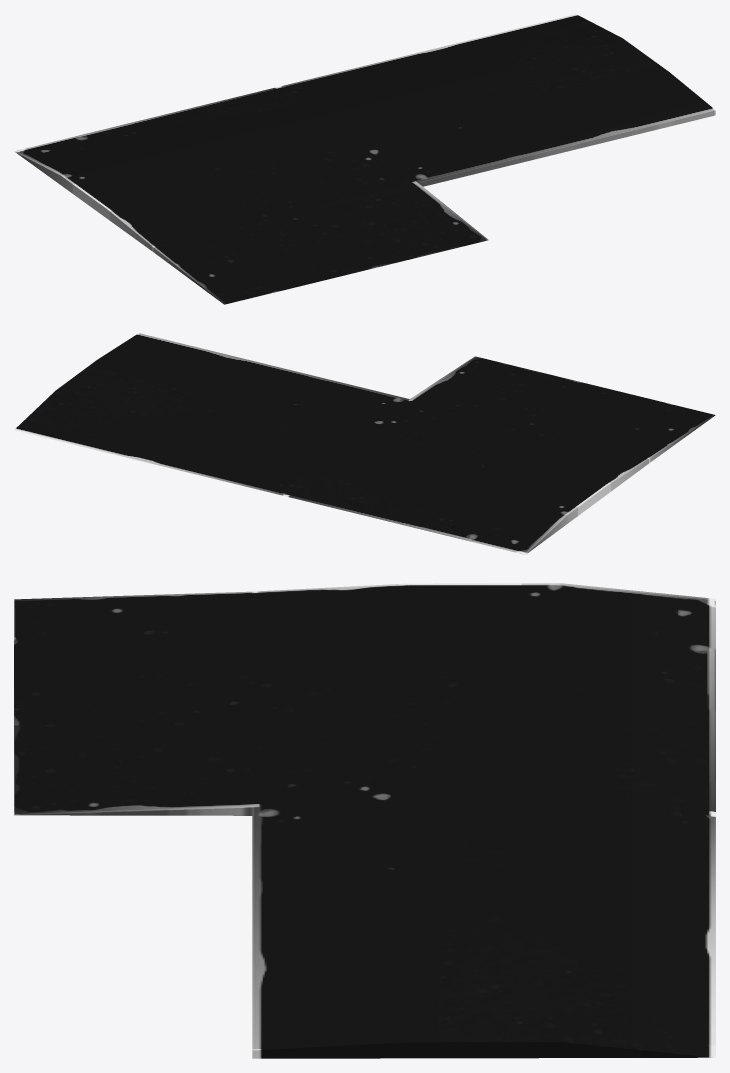
File: SM_HumanGroundTransition03.FBX
3 views of the same model, one above another, from view 1: azimuth 30°, elevation 25°; view 2: azimuth 150°, elevation 25°; view 3: azimuth 270°, elevation 25° (orthographic). The views are drawn at different scales.
Parts seen in each view (by area): view 1: Object003; view 2: Object003; view 3: Object003.
Part boxes in pixels (x1=…): Object003: x1=14, y1=14, x2=715, y2=304; Object003: x1=14, y1=333, x2=715, y2=554; Object003: x1=14, y1=583, x2=715, y2=1058.
Size of the model in its own units: 616 by 397 by 10.
